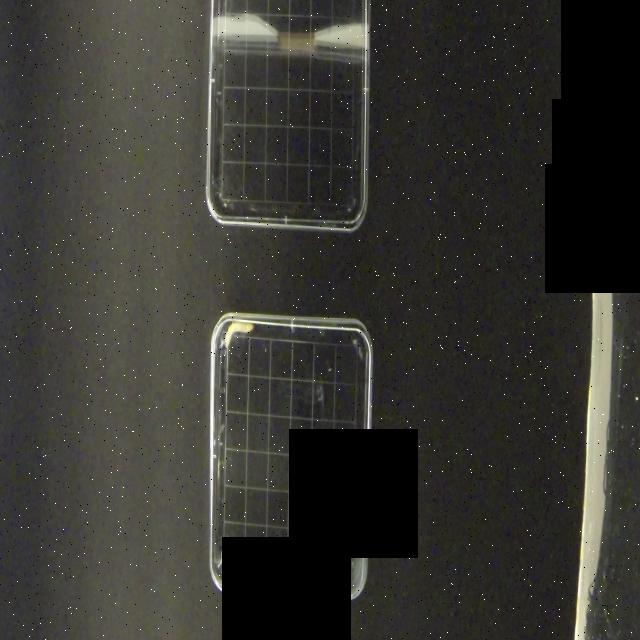larva: (223, 322, 255, 346)
